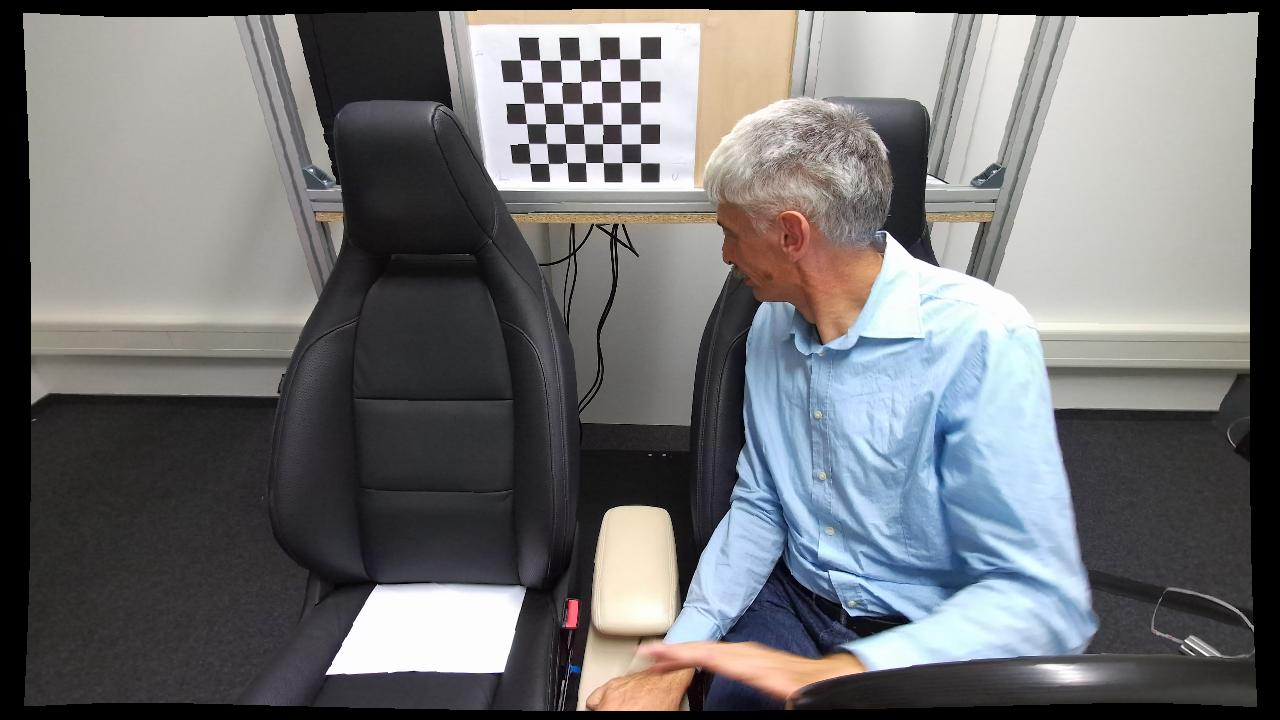Distracted: (677, 89, 1051, 706)
